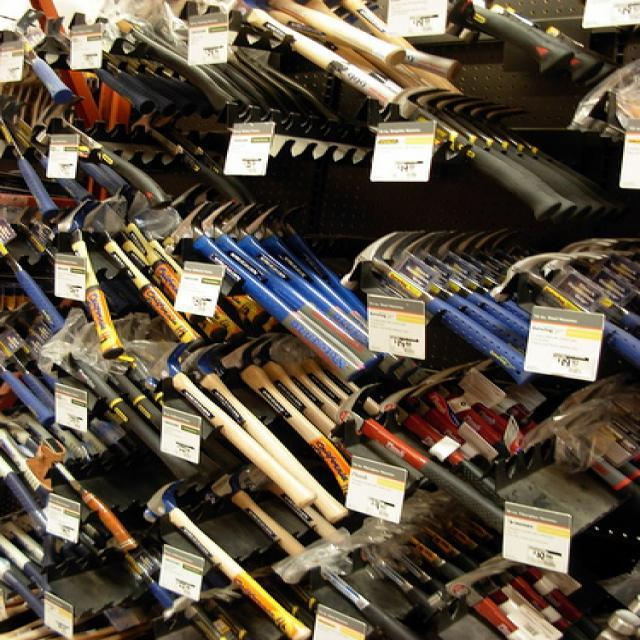hammer: (158, 202, 358, 382), (134, 472, 310, 637), (332, 227, 523, 374), (322, 381, 506, 533), (364, 80, 562, 214), (483, 240, 640, 374), (410, 562, 524, 640)
